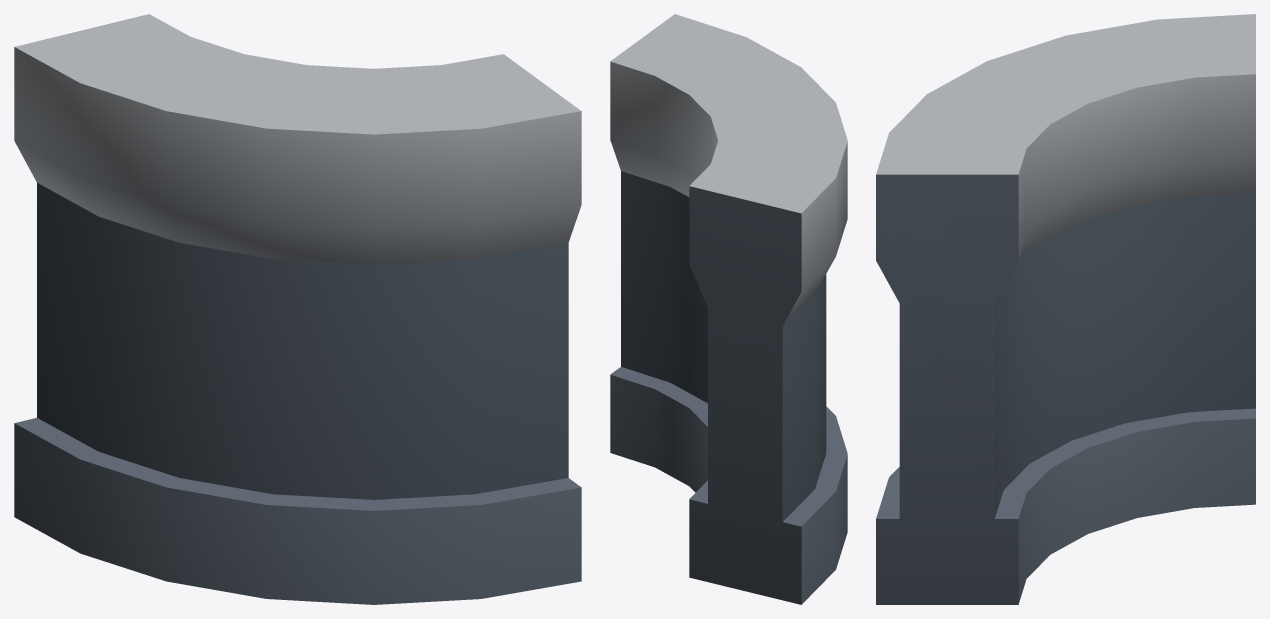
The model's file is wall-corner-round.glb.
The picture shows the model from 3 angles, left to right: view 1: azimuth 30°, elevation 25°; view 2: azimuth 150°, elevation 25°; view 3: azimuth 270°, elevation 25°; orthographic projection. The views are drawn at different scales.
Parts seen in each view (by area): view 1: wall-corner-round; view 2: wall-corner-round; view 3: wall-corner-round.
Boxes of the visible parts, x1,y1,x2,y2 form: wall-corner-round: (14, 14, 581, 604); wall-corner-round: (610, 14, 847, 604); wall-corner-round: (876, 14, 1255, 604).
Bounding box in the file's own units: 0.8 × 1 × 0.8.
